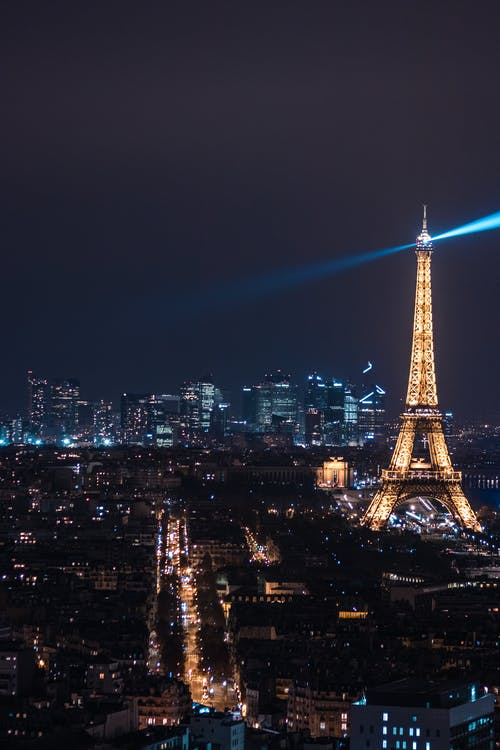eiffel tower: (332, 191, 487, 549)
